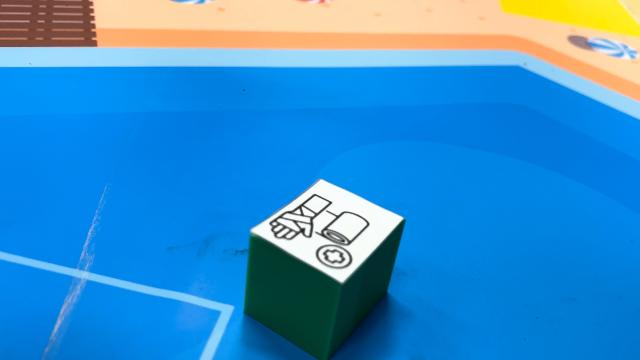bandage: (243, 178, 405, 358)
